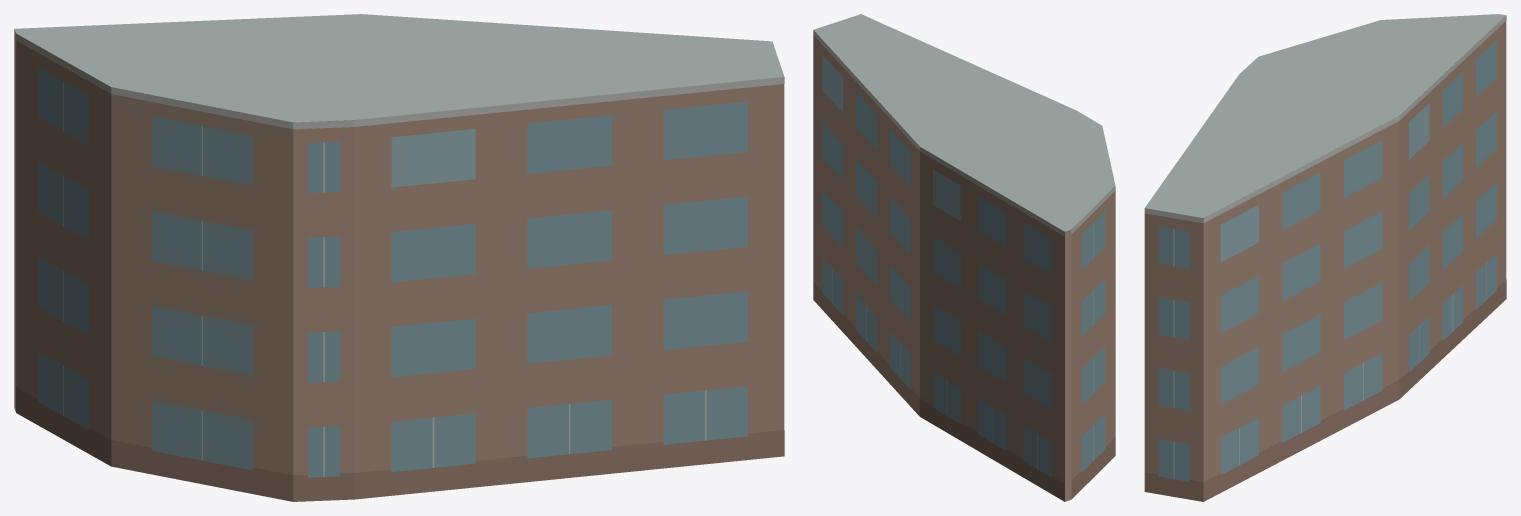
File: survey-upis-32476795.glb
3 renders of one model, left to right at view 1: azimuth 30°, elevation 25°; view 2: azimuth 150°, elevation 25°; view 3: azimuth 270°, elevation 25°, orthographic. The views are drawn at different scales.
Parts seen in each view (by area): view 1: survey-upis-32476795.tmp; view 2: survey-upis-32476795.tmp; view 3: survey-upis-32476795.tmp.
Boxes of the visible parts, bbox=[...] form: survey-upis-32476795.tmp: bbox=[14, 14, 784, 501]; survey-upis-32476795.tmp: bbox=[813, 14, 1115, 501]; survey-upis-32476795.tmp: bbox=[1144, 14, 1506, 501].
Bounding box in the file's own units: 20.6 × 13.35 × 15.44.
